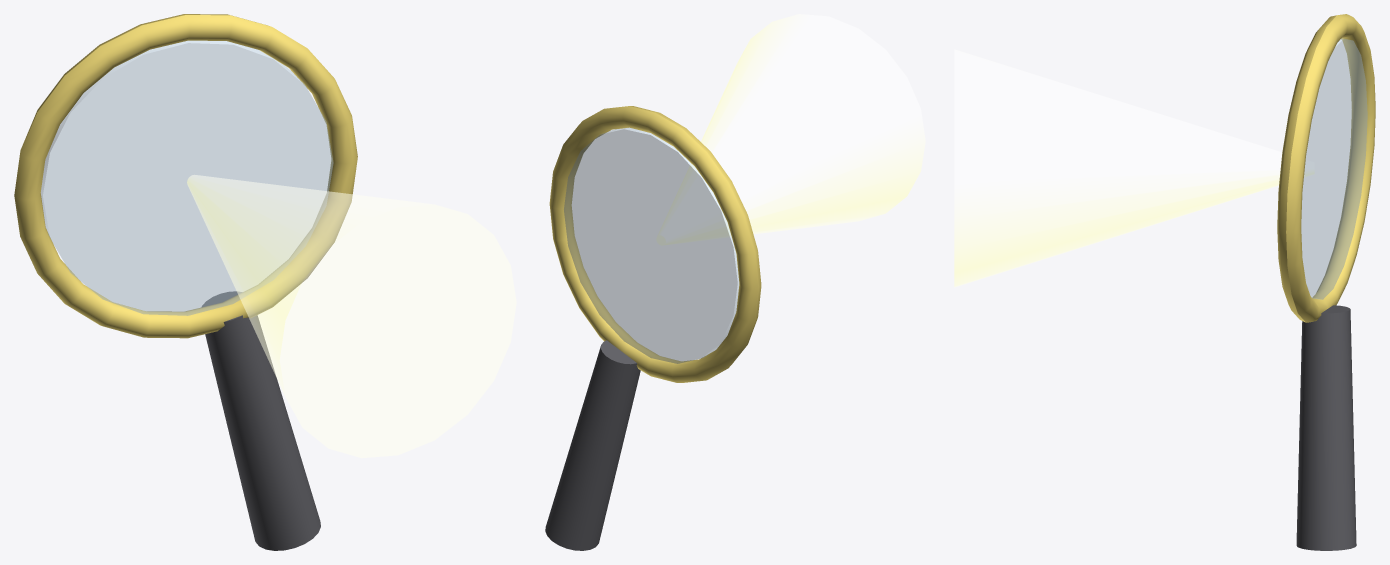
The model's file is kinh_lup.glb.
3 renders of one model, left to right at view 1: azimuth 30°, elevation 25°; view 2: azimuth 150°, elevation 25°; view 3: azimuth 270°, elevation 25°, orthographic. The views are drawn at different scales.
Visible parts, largest first — view 1: Cyl2, Cyl3, Tor1, Cyl1; view 2: Cyl3, Cyl2, Tor1, Cyl1; view 3: Cyl3, Tor1, Cyl1, Cyl2.
Part boxes in pixels (box(x1,y1,x2,y2)): Cyl2: box(41, 40, 333, 315); Cyl3: box(187, 175, 516, 457); Tor1: box(14, 14, 357, 338); Cyl1: box(202, 291, 320, 550); Cyl3: box(656, 14, 925, 245); Cyl2: box(564, 127, 739, 363); Tor1: box(549, 106, 761, 382); Cyl1: box(545, 340, 640, 550); Cyl3: box(954, 49, 1314, 287); Tor1: box(1277, 14, 1375, 322); Cyl1: box(1296, 305, 1356, 550); Cyl2: box(1301, 38, 1367, 299).
Size of what is drawn, in the model's own units: 0.2511 by 0.4431 by 0.351.
